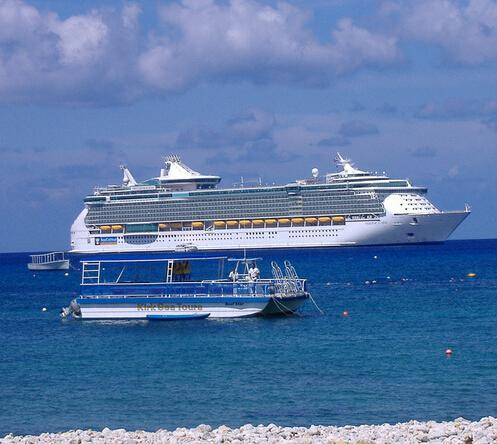otherboat: (62, 249, 314, 323), (26, 247, 73, 276)
youlun: (63, 159, 466, 258)
